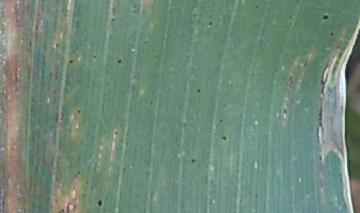tarspot: (319, 12, 330, 23), (95, 198, 104, 208), (220, 133, 228, 142), (189, 156, 197, 164), (74, 169, 83, 176), (281, 106, 288, 115), (207, 20, 214, 28), (116, 57, 123, 65), (67, 58, 75, 65), (53, 42, 61, 49), (113, 129, 120, 137), (253, 3, 260, 10), (218, 116, 223, 125), (329, 30, 335, 37), (92, 53, 98, 60), (76, 108, 82, 115), (110, 16, 116, 23), (196, 87, 202, 93)
